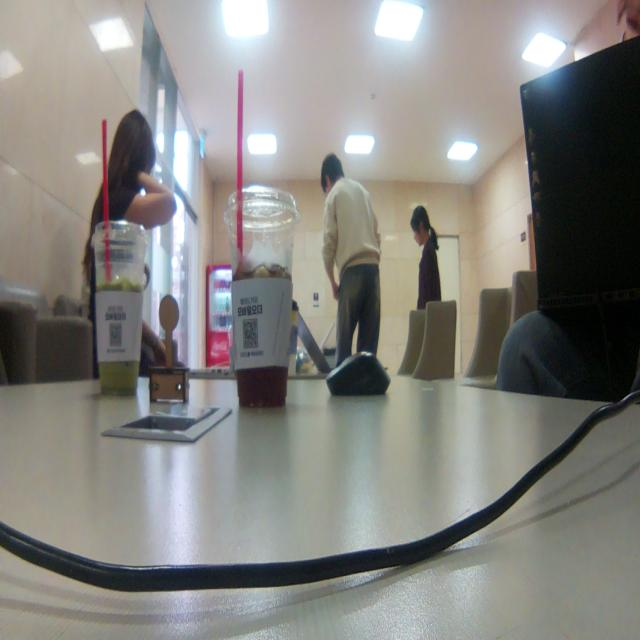target: (148, 294, 189, 404)
